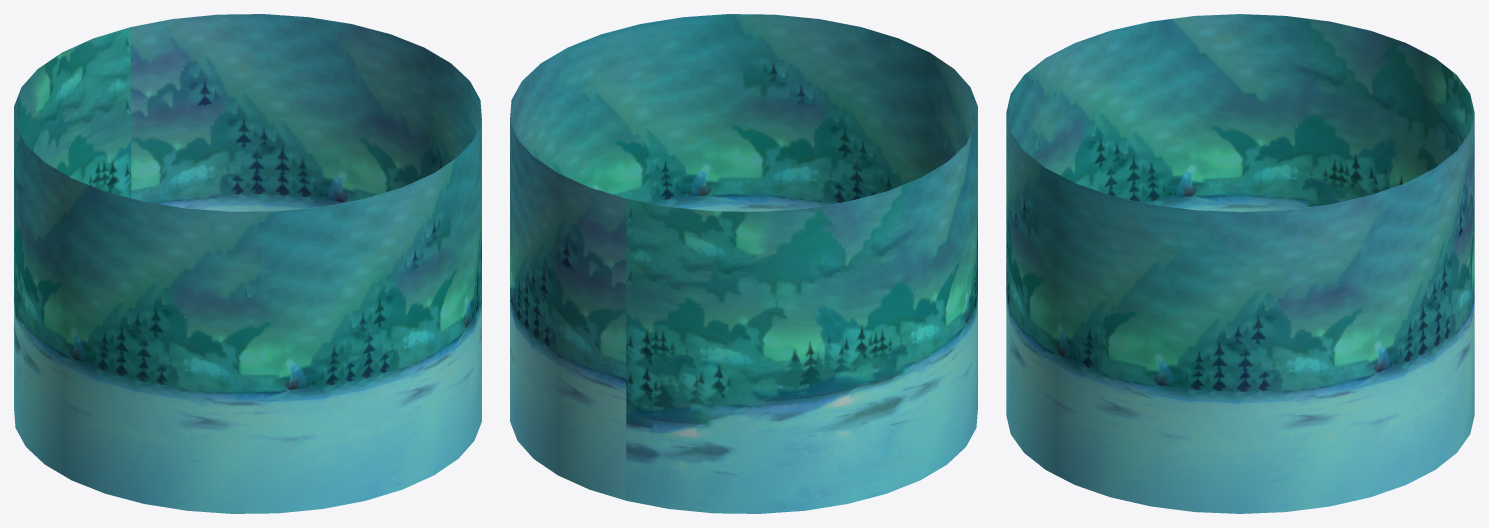
Rendered from map-battle.glb.
3 renders of one model, left to right at view 1: azimuth 30°, elevation 25°; view 2: azimuth 150°, elevation 25°; view 3: azimuth 270°, elevation 25°, orthographic.
Visible parts, largest first — view 1: Cylinder; view 2: Cylinder; view 3: Cylinder.
Boxes of the visible parts, x1,y1,x2,y2 form: Cylinder: (14, 14, 481, 513); Cylinder: (510, 14, 977, 513); Cylinder: (1006, 14, 1474, 513).
Bounding box in the file's own units: 6.73 × 4.79 × 6.73.
Materials: 1 (1 with a texture image).
